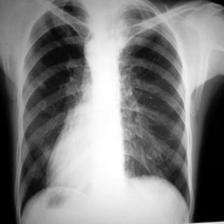tuberculosis: (11, 0, 196, 224)
